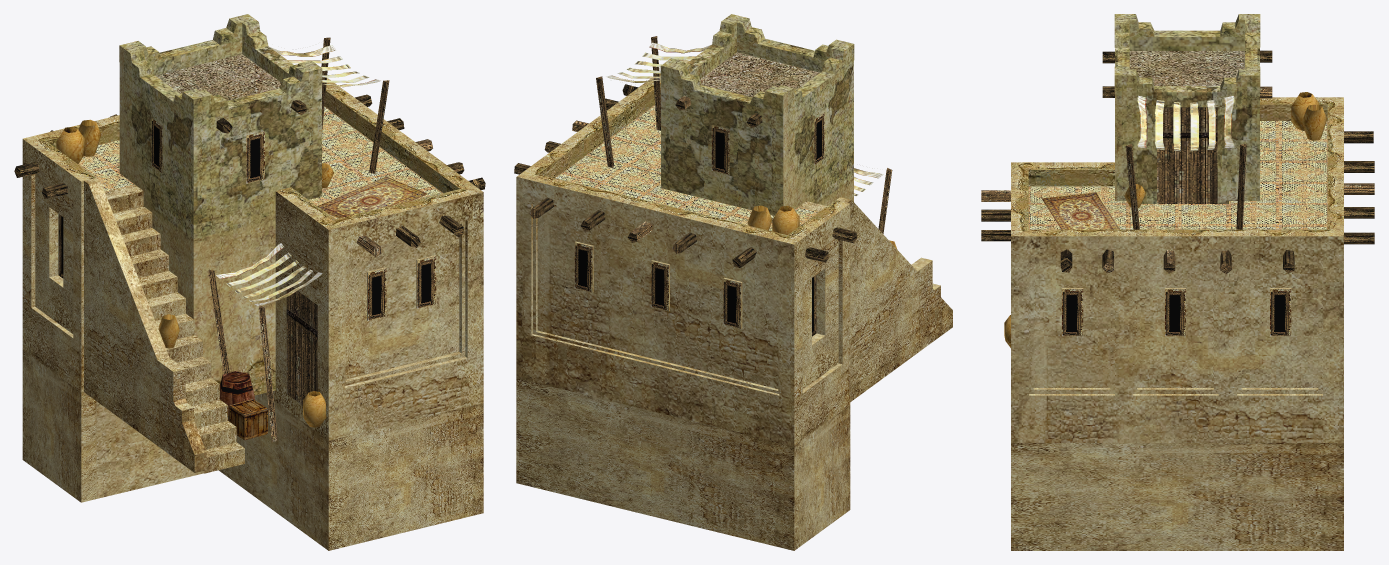
Rendered from pers_house_b.dae.
3 renders of one model, left to right at view 1: azimuth 30°, elevation 25°; view 2: azimuth 150°, elevation 25°; view 3: azimuth 270°, elevation 25°, orthographic. The views are drawn at different scales.
Visible parts, largest first — view 1: HouseB; view 2: HouseB; view 3: HouseB.
Part boxes in pixels (x1,y1,x2,y2): HouseB: (14,14,485,550); HouseB: (514,14,952,550); HouseB: (981,14,1374,550).
Size of the model in its own units: 15.51 by 15.91 by 18.9.
